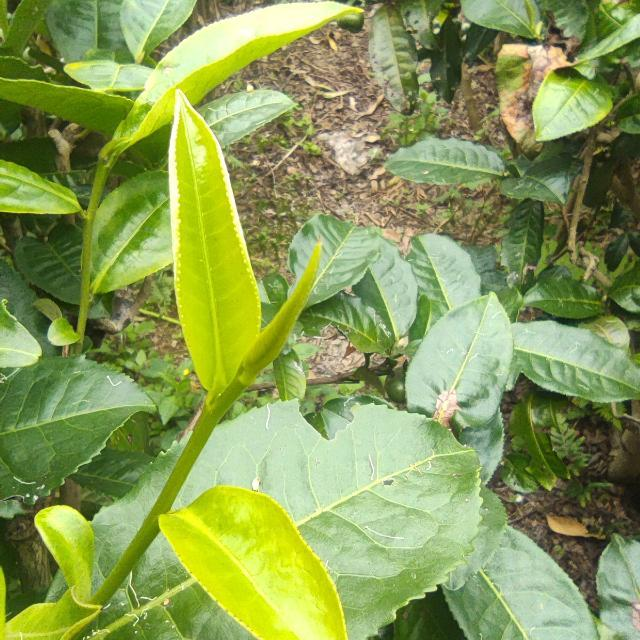Stem: (197, 414, 215, 434), (98, 162, 109, 175)
